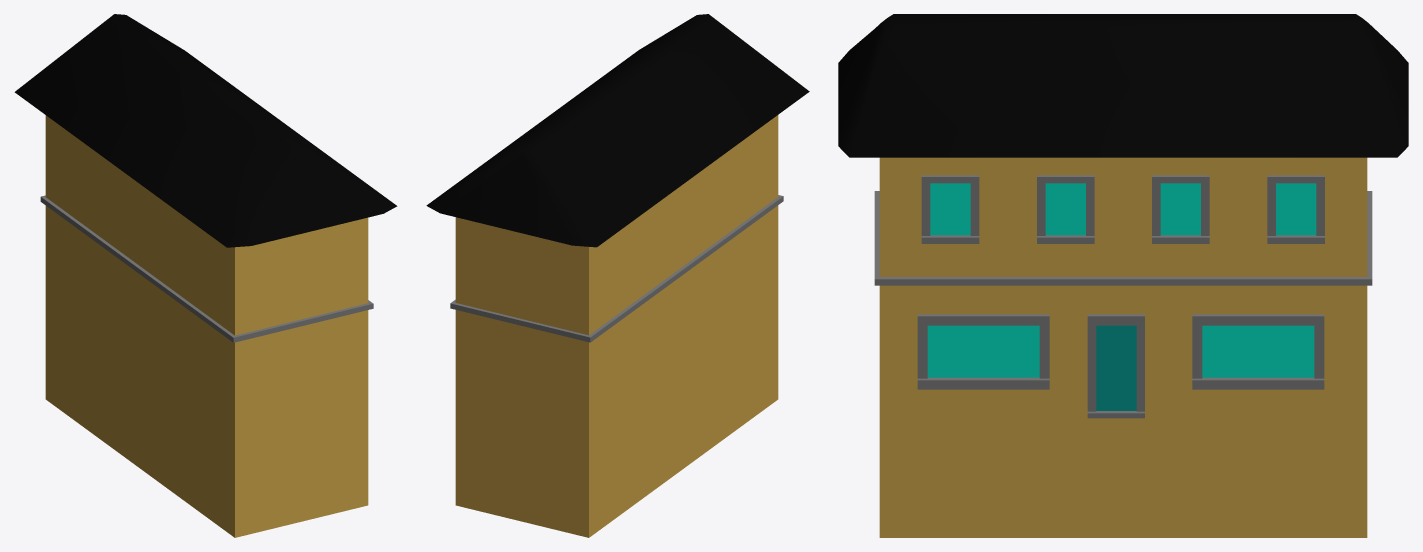
File: TownBuilding.fbx
3 views of the same model, side by side, from view 1: azimuth 30°, elevation 25°; view 2: azimuth 150°, elevation 25°; view 3: azimuth 270°, elevation 25° (orthographic). The views are drawn at different scales.
Visible parts, largest first — view 1: Cube; view 2: Cube; view 3: Cube.
Part boxes in pixels (x1,y1,x2,y2): Cube: (14, 14, 397, 537); Cube: (426, 14, 809, 537); Cube: (838, 14, 1408, 537).
Size of the model in its own units: 353 by 733 by 792.
